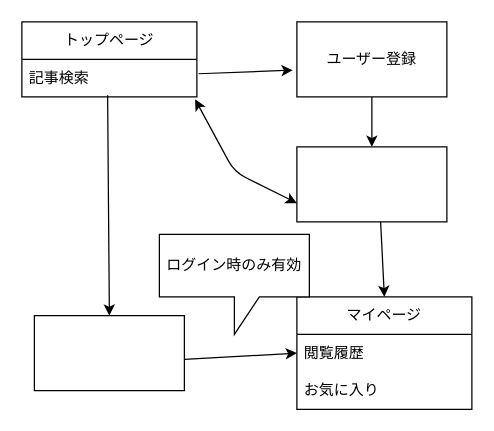
Image size: 494x431. Some labels were removed from this diagram. The centre of each missing label's shape, as x and y in pixels:
"ログイン画面" goes at (x=371, y=184).
"検索結果" goes at (x=108, y=352).
